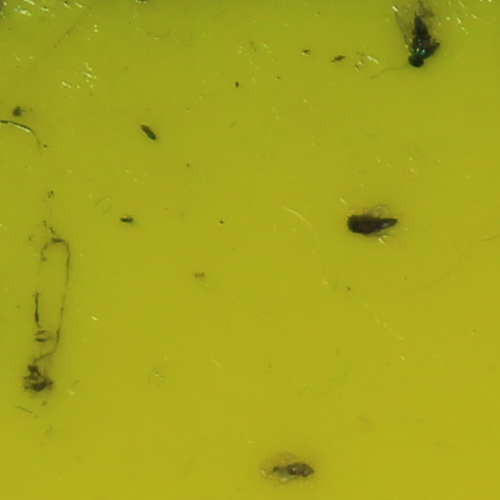Psyllaephagus: (408, 14, 436, 70)
